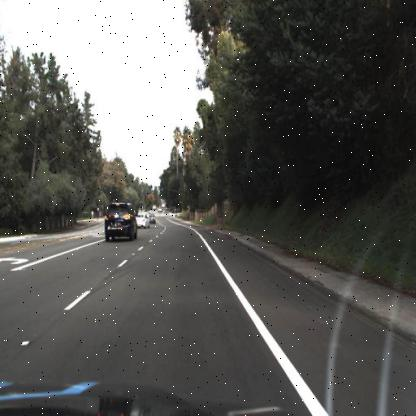car: (103, 200, 138, 244), (133, 212, 153, 229)
